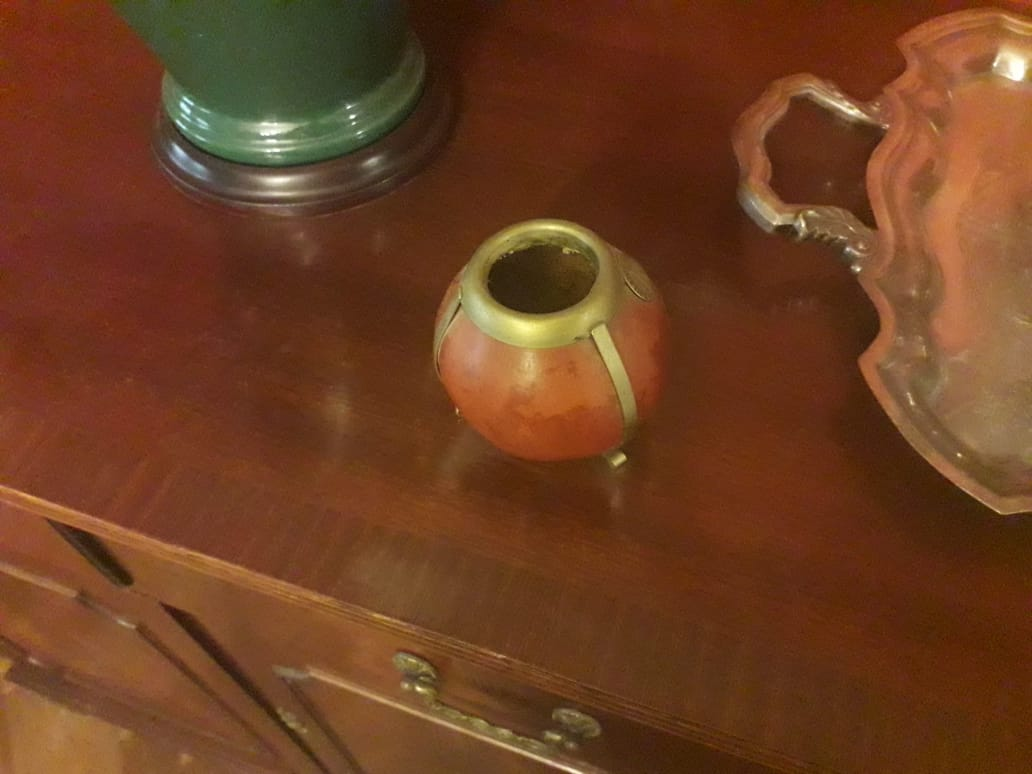calabaza: (428, 212, 677, 473)
mate: (430, 214, 679, 475)
